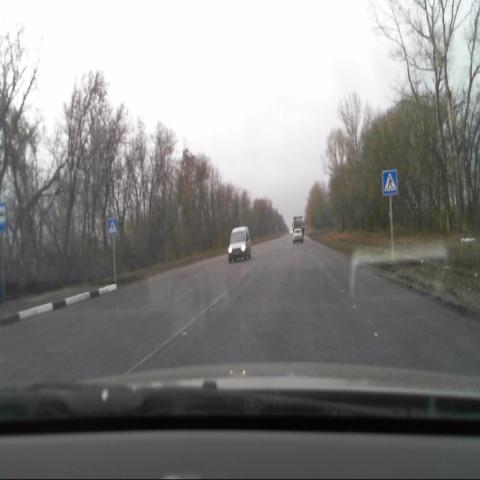5_16: (0, 201, 8, 230)
5_19_1: (382, 170, 398, 194), (108, 219, 118, 236)
